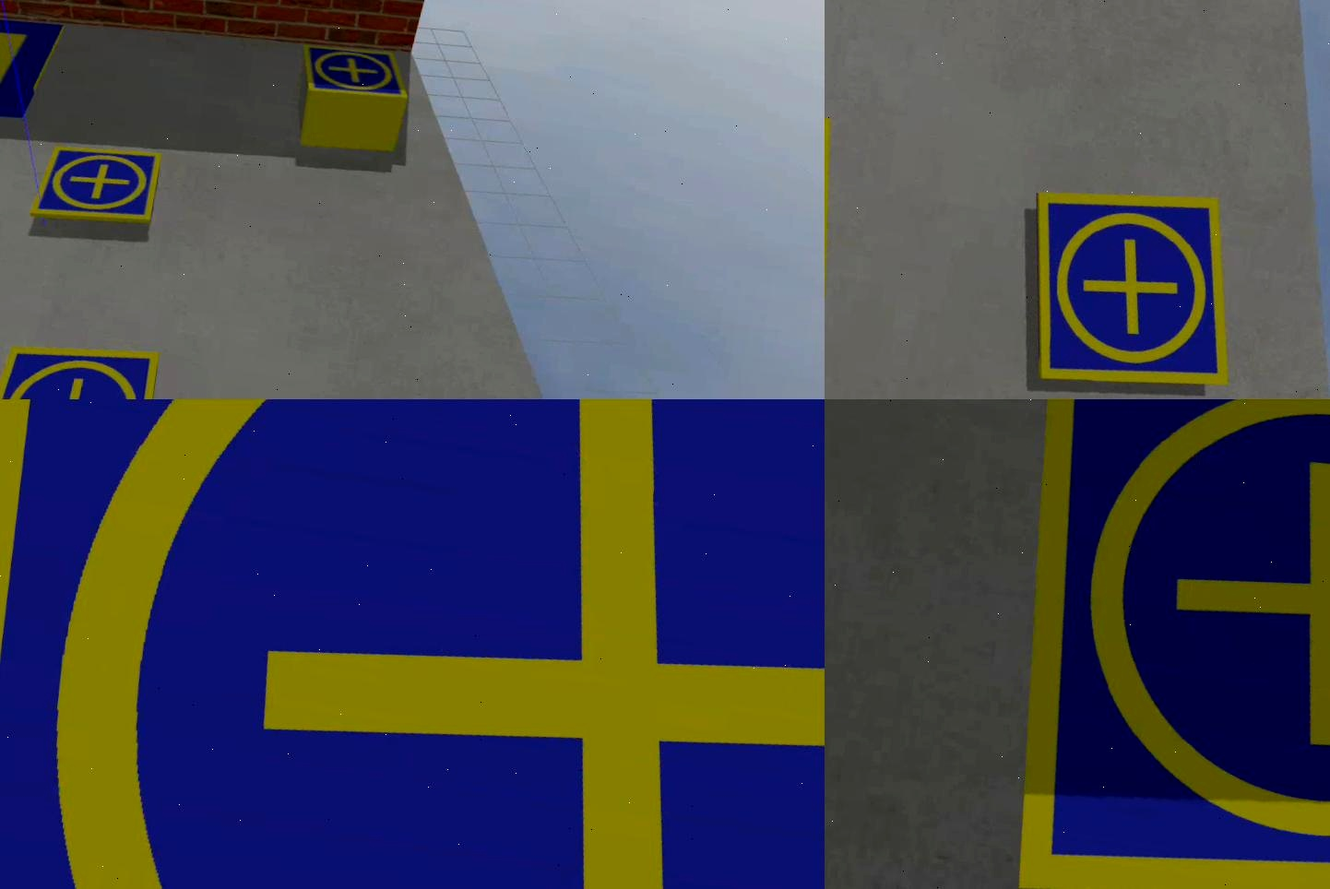large_base: (1, 1, 65, 136)
small_base: (1, 400, 825, 889), (971, 400, 1330, 889), (1011, 173, 1257, 400), (29, 137, 162, 234), (1, 328, 164, 400), (300, 41, 415, 108)
